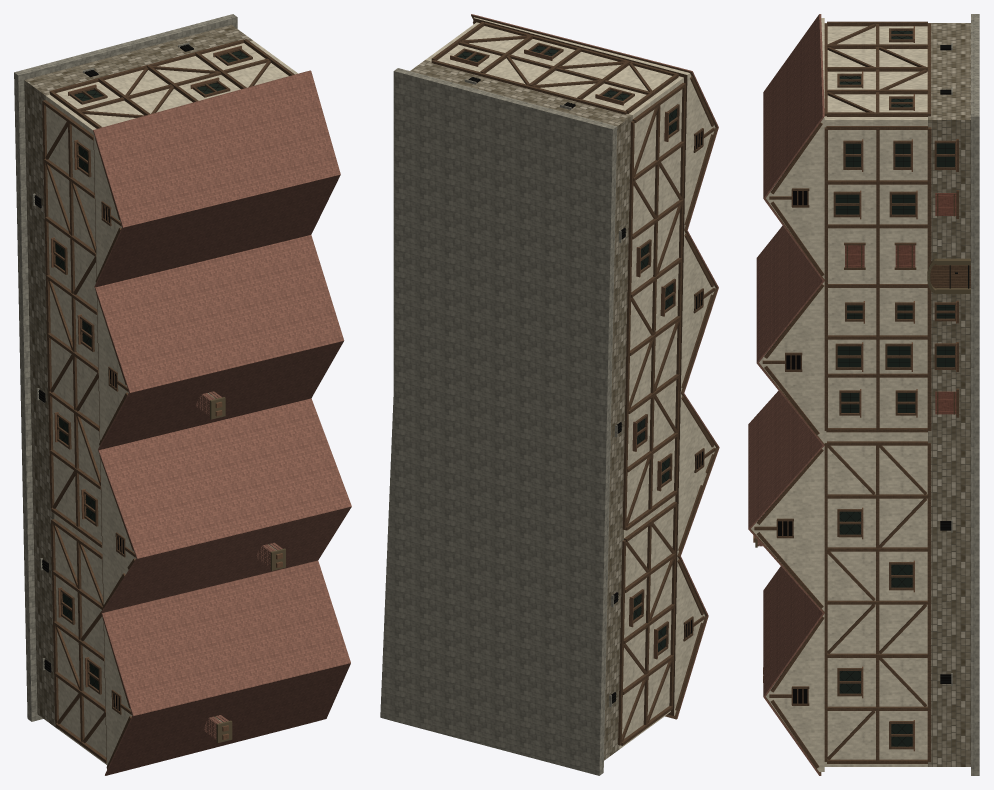
File: SM_GLMedieval_NorthMarketDetail_west_736fd5c6.obj
3 views of the same model, side by side, from view 1: azimuth 30°, elevation 25°; view 2: azimuth 150°, elevation 25°; view 3: azimuth 270°, elevation 25° (orthographic).
Bounding box in the file's own units: 12.55 × 33.73 × 10.75.
Materials: 11 (7 with a texture image).
